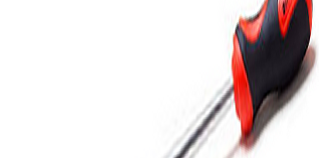Screwdriver: (164, 1, 315, 158)
